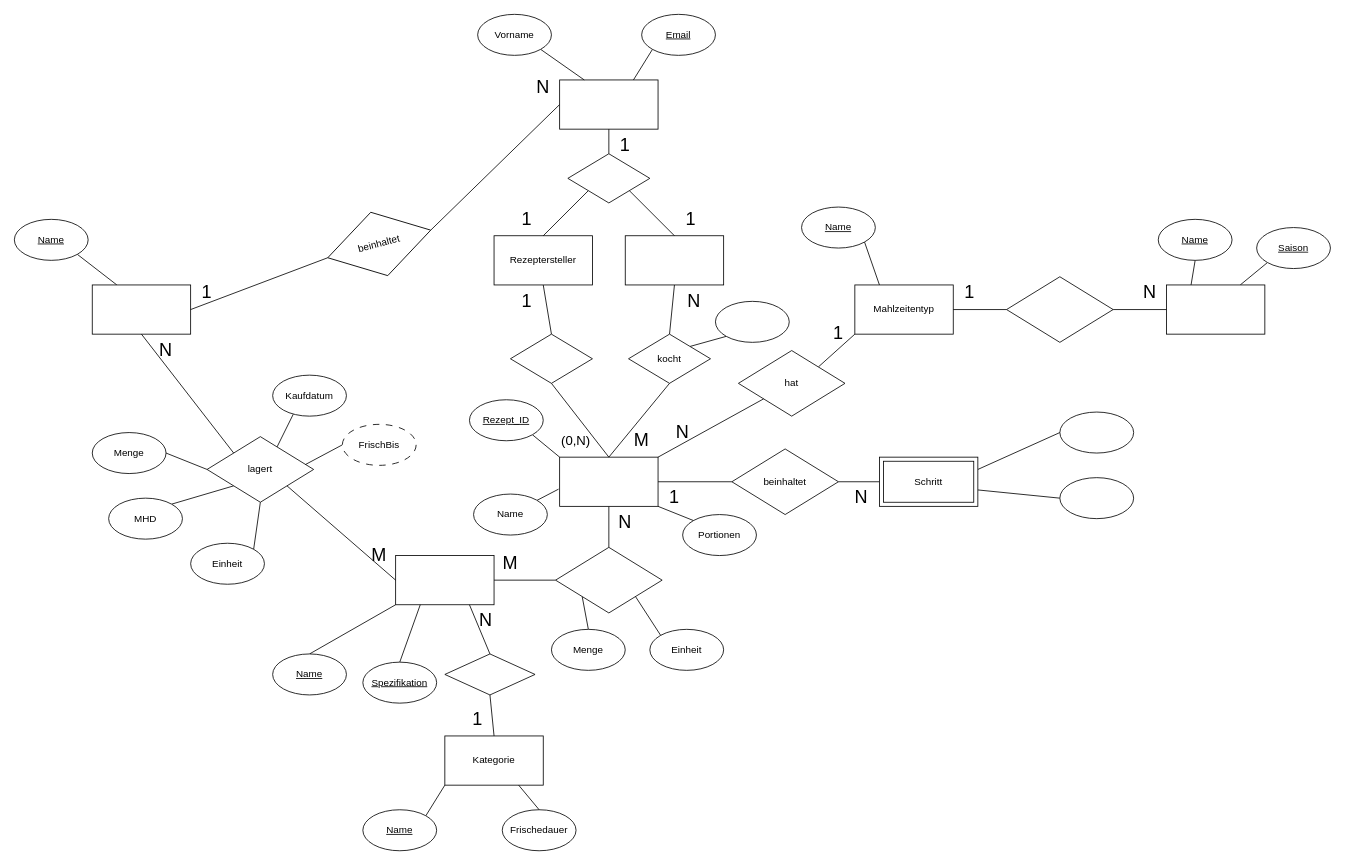
The diagram is 1345 pixels wide and 865 high, and some of its shapes have lost their labels. Here are the shapes that lost their labels. From the top down, the centre of each, then its label:
[608,104]: Person
[608,178]: ist ein
[674,260]: Koch
[141,309]: Haushalt
[752,321]: Notiz
[1059,309]: wird spezifiziert von
[1215,309]: Gerichttyp
[551,358]: erstellt
[1096,432]: Reihenfolge
[608,481]: Rezept
[1096,498]: Beschreibung
[444,580]: Zutat
[608,580]: benötigt
[489,674]: gehört zu
